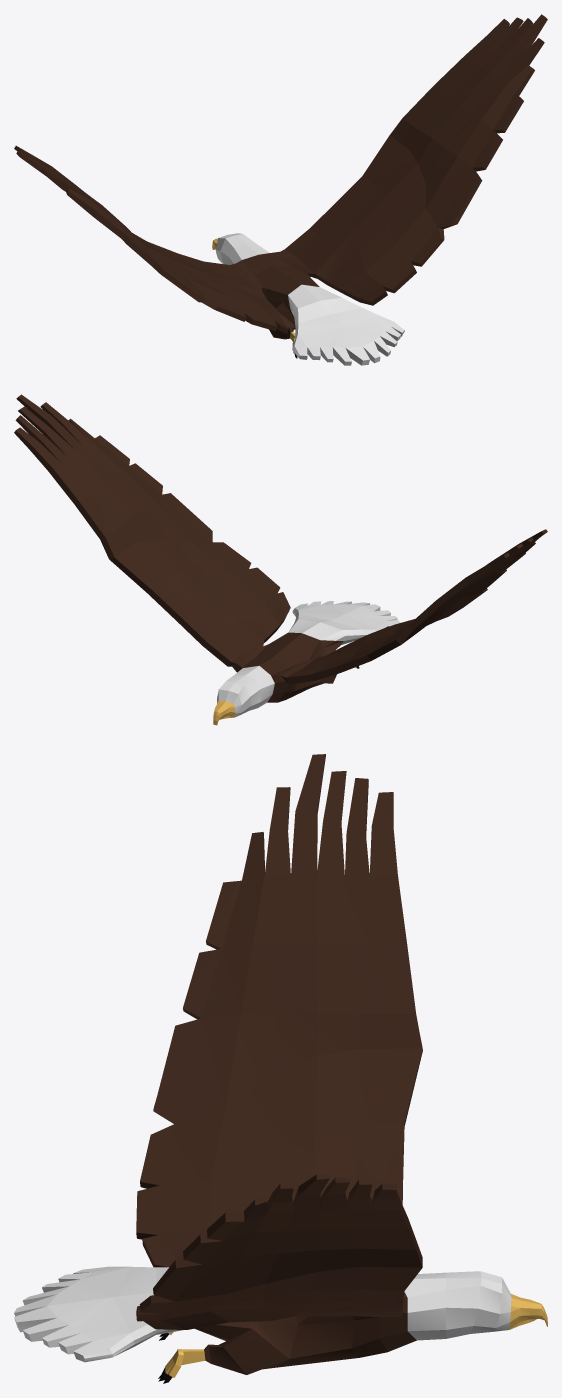
Rendered from vol-eagle.glb.
3 renders of one model, top to bottom at view 1: azimuth 30°, elevation 25°; view 2: azimuth 150°, elevation 25°; view 3: azimuth 270°, elevation 25°, orthographic. The views are drawn at different scales.
Visible parts, largest first — view 1: Cylinder, Cylinder_2; view 2: Cylinder, Cylinder_2; view 3: Cylinder, Cylinder_2, Cylinder_1.
Boxes of the visible parts, left/top/right/bottom form: Cylinder: left=14, top=14, right=547, bottom=339; Cylinder_2: left=216, top=233, right=404, bottom=365; Cylinder: left=14, top=394, right=547, bottom=702; Cylinder_2: left=217, top=601, right=400, bottom=717; Cylinder: left=136, top=754, right=422, bottom=1374; Cylinder_2: left=14, top=1266, right=511, bottom=1362; Cylinder_1: left=165, top=1294, right=547, bottom=1377.
Size of the model in its own units: 1.6 by 0.6908 by 0.8285.
